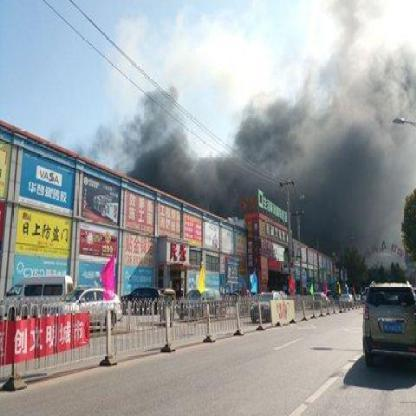smoke: (246, 104, 413, 205), (315, 1, 411, 106), (124, 82, 200, 191), (305, 205, 408, 269), (200, 152, 249, 220)
